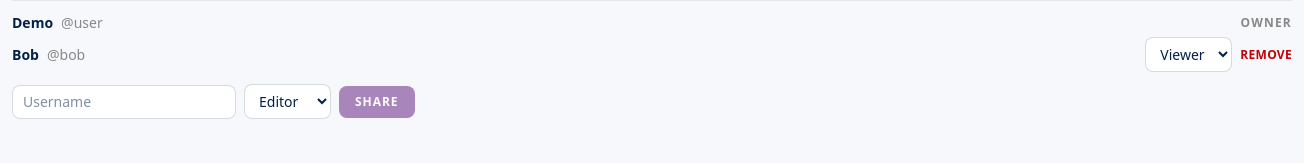
Test: BoardMembers › shows sharing errors
Type "ghost" into the field named "Share with username" at (124, 102), box [12, 84, 236, 118]
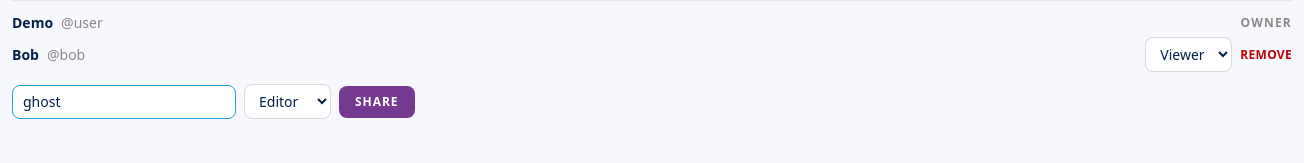
Click the button "Share" at (377, 102), box [339, 86, 414, 118]
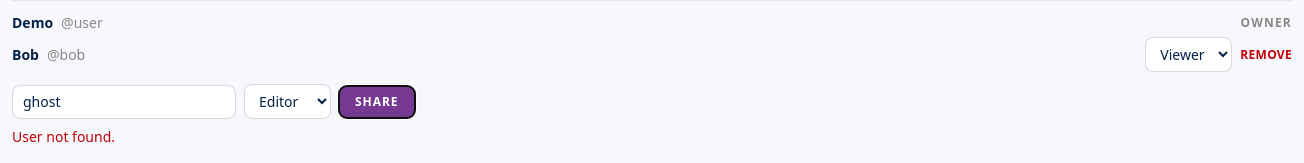
Check: the text "User not found." is shown, box [12, 127, 115, 146]
